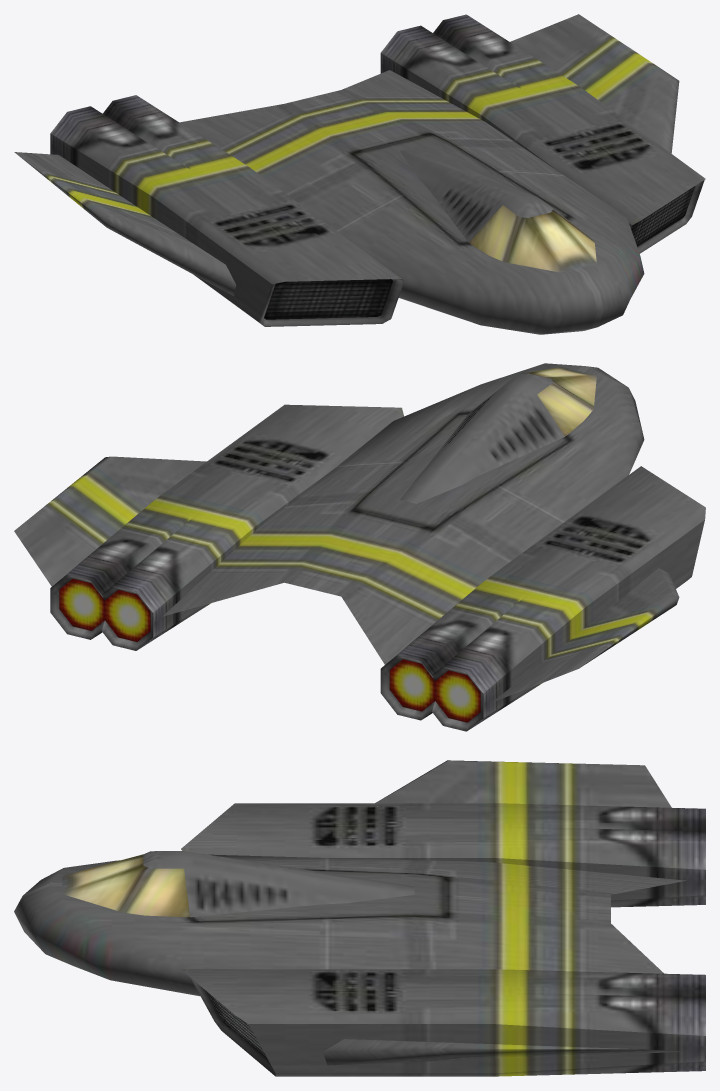
The model's file is forma.obj.
The picture shows the model from 3 angles, top to bottom: view 1: azimuth 30°, elevation 25°; view 2: azimuth 150°, elevation 25°; view 3: azimuth 270°, elevation 25°; orthographic projection. The views are drawn at different scales.
Parts seen in each view (by area): view 1: object_3, object_7, object_6, object_2, object_1, object_5, object_4; view 2: object_3, object_7, object_6, object_2, object_5, object_1, object_4; view 3: object_3, object_6, object_7, object_1, object_5, object_4, object_2.
Boxes of the visible parts, <box> form: object_3: <box>179,70,644,334</box>; object_7: <box>50,95,404,326</box>; object_6: <box>380,14,705,253</box>; object_2: <box>510,14,679,153</box>; object_1: <box>14,152,235,295</box>; object_5: <box>400,146,553,242</box>; object_4: <box>469,205,596,272</box>; object_3: <box>162,363,644,664</box>; object_7: <box>380,466,705,731</box>; object_6: <box>50,404,403,650</box>; object_2: <box>14,456,206,586</box>; object_5: <box>400,373,564,503</box>; object_1: <box>492,568,679,702</box>; object_4: <box>521,367,596,436</box>; object_3: <box>14,854,686,996</box>; object_6: <box>181,969,705,1076</box>; object_7: <box>181,803,705,907</box>; object_1: <box>375,760,671,807</box>; object_5: <box>143,851,414,917</box>; object_4: <box>62,854,189,917</box>; object_2: <box>323,1039,687,1065</box>.
Size of the model in its own units: 0.9876 by 0.1861 by 1.
1 material, 1 textured.
